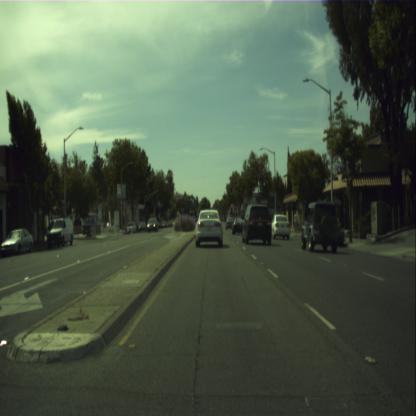Green: (229, 188, 232, 198)
Yellow: (189, 207, 192, 214), (202, 202, 204, 209)
